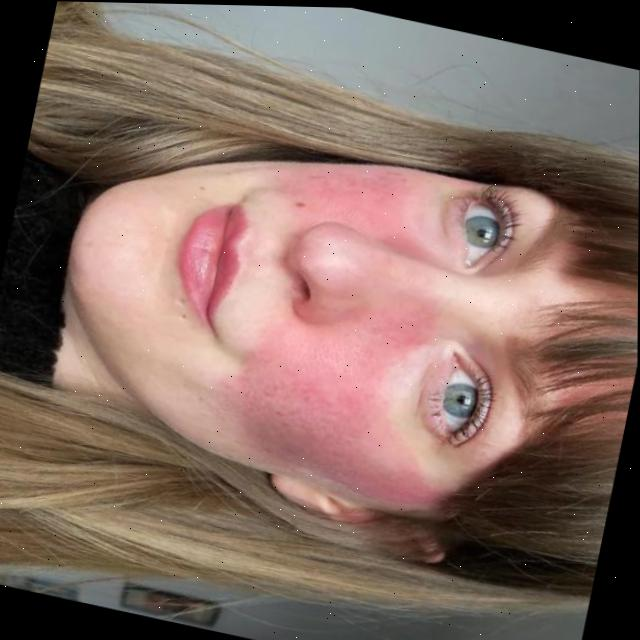Rosacea: (225, 282, 437, 500), (289, 133, 430, 238)
